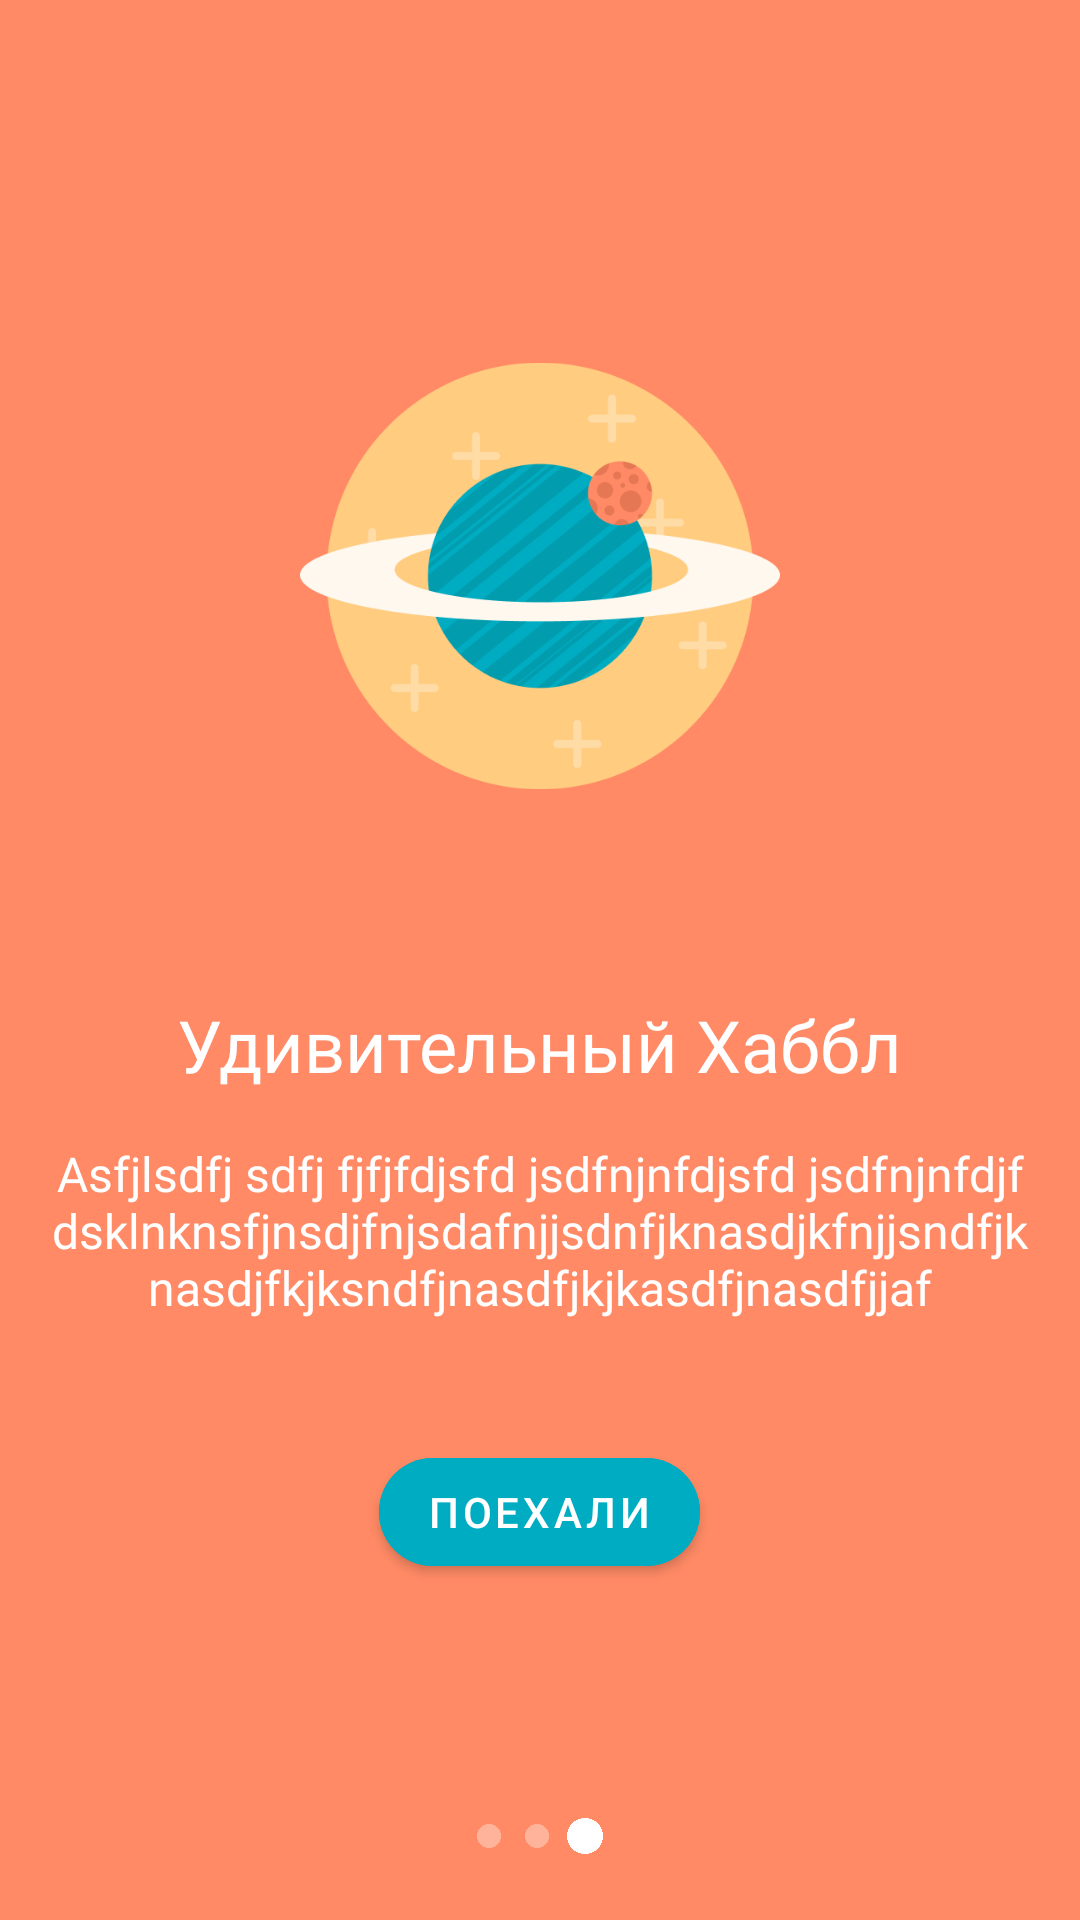

Icon bounding boxes for this 1080px x 1920px phone screenshot, format (x1, y1, x2, y2):
Paiging: (477, 1818, 603, 1854)
